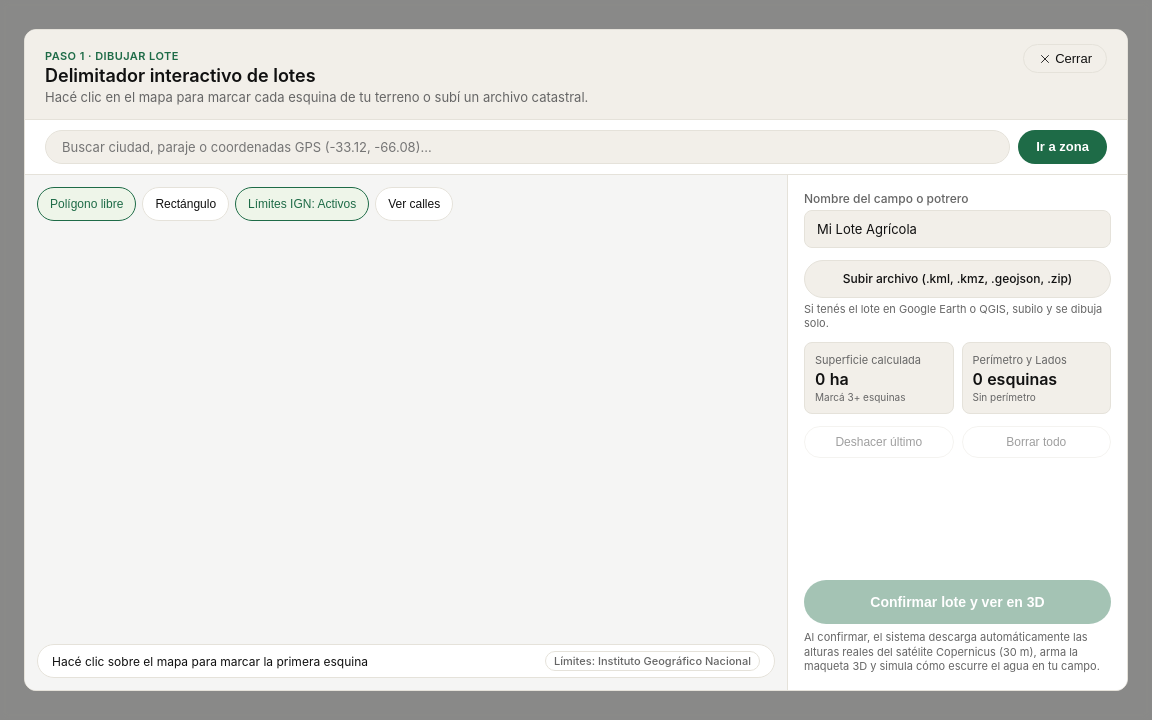
PolygonMapDrawer - Delimitador, Límites IGN y Coma Decimal (Issue #84) › PARTE B: botón Límites IGN conmuta ambas capas vectoriales (provincias y departamentos)
# Al hacer clic, conmuta a "Límites IGN: Ocultos"
Click the button "Límites IGN: Activos" at (302,204), box x1=235 y1=187 x2=369 y2=221
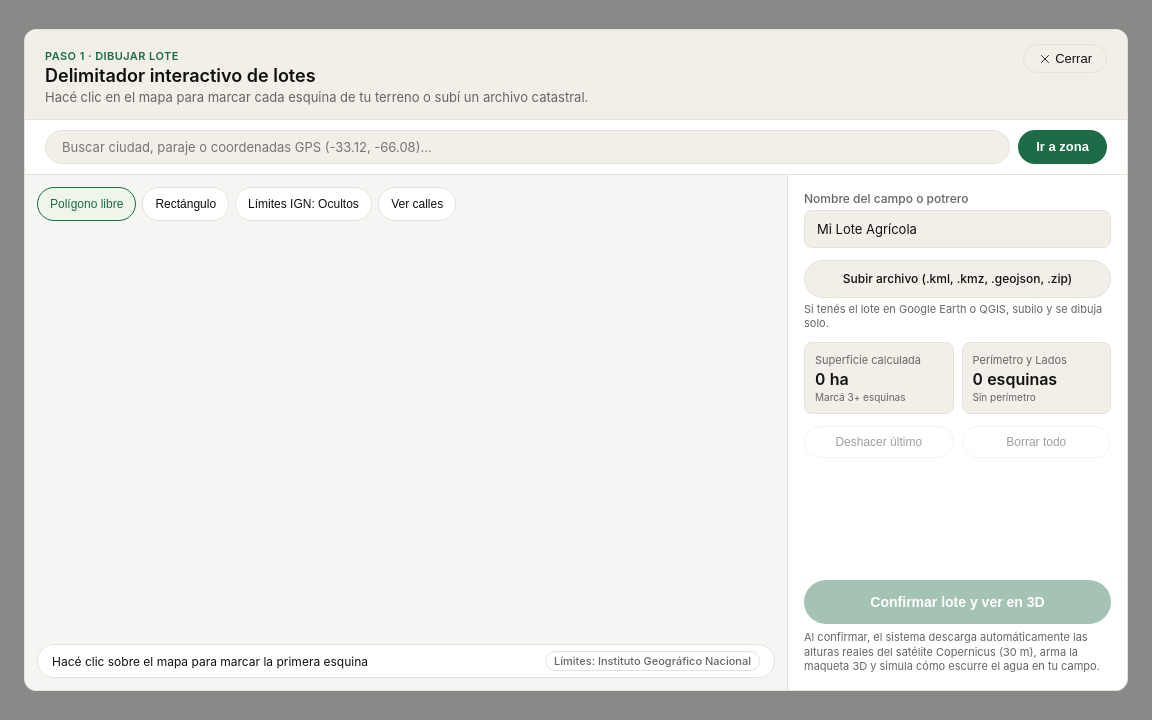
Now the button "Límites IGN: Ocultos" is shown, box x1=235 y1=187 x2=372 y2=221
